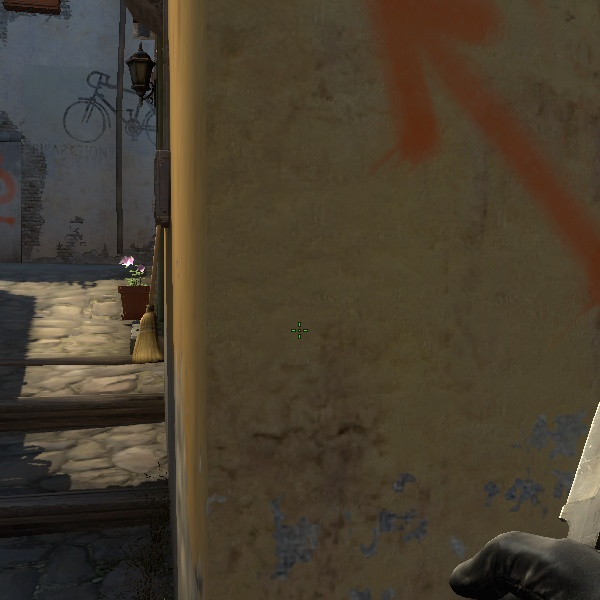ct_body: (112, 250, 159, 364)
